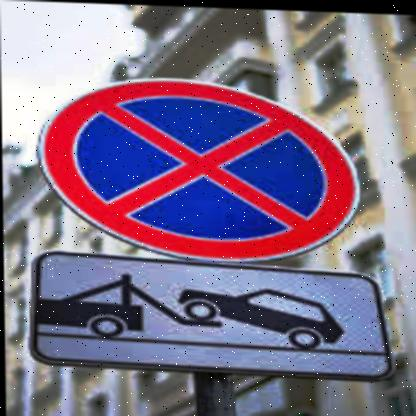No stopping: (37, 70, 357, 264)
